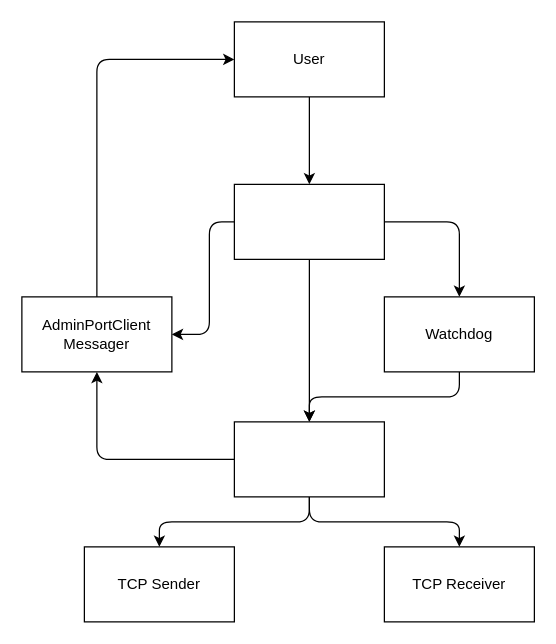
This 556x644 diagram has some shape labels left out. Here are the shapes that lost their labels. From the top down, the centre of each, then its label:
pixel 308 221: AdminPort Client
pixel 308 459: Admin Port TCP Client
